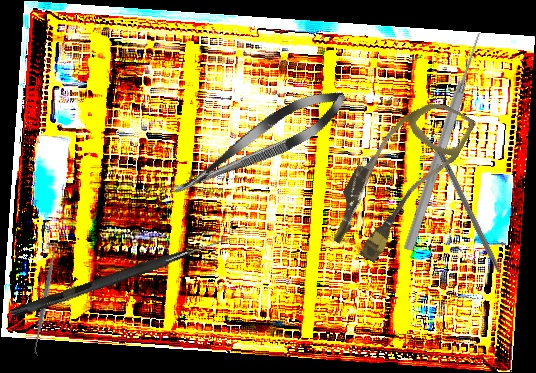Cannula: (320, 81, 477, 274)
Hook Surgical: (9, 230, 232, 322), (434, 145, 514, 299)
Micro Scissor: (162, 78, 355, 210)
Pusher: (401, 30, 487, 253)
Spatula Surgical: (28, 240, 63, 357)
